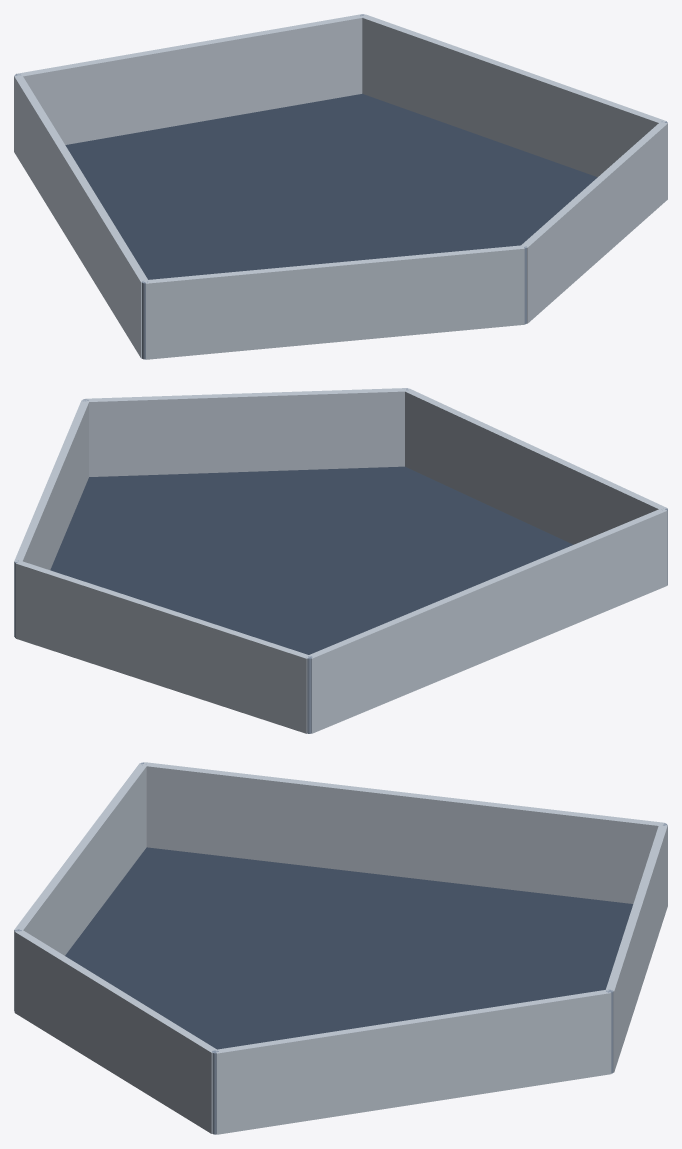
File: 644583b9-c357-4cbf-8bc3-a1a72e32496b.glb
3 views of the same model, one above another, from view 1: azimuth 30°, elevation 25°; view 2: azimuth 150°, elevation 25°; view 3: azimuth 270°, elevation 25° (orthographic). The views are drawn at different scales.
Parts seen in each view (by area): view 1: room-content; view 2: room-content; view 3: room-content.
Boxes of the visible parts, <box> form: room-content: <box>14,14,667,359</box>; room-content: <box>14,388,667,733</box>; room-content: <box>14,762,667,1134</box>.
Size of the model in its own units: 38.48 by 5 by 36.49.
